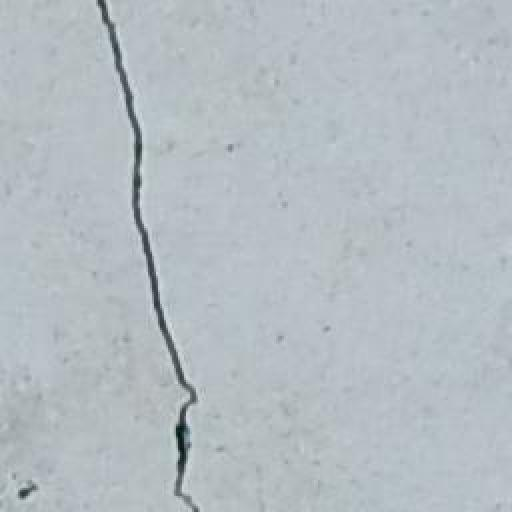spalling: (82, 5, 238, 512)
